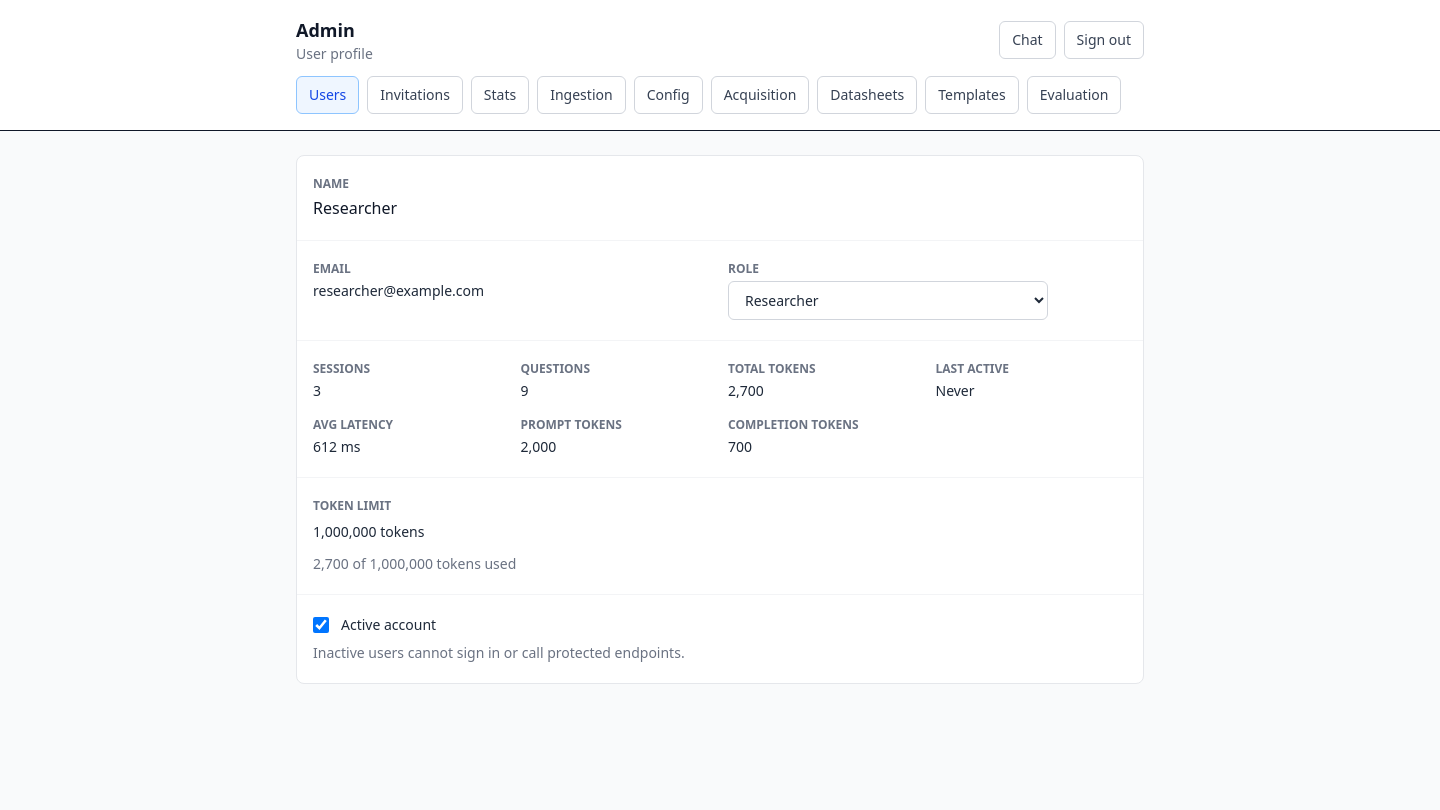
Test: AdminUserClient › manually edits and saves the token limit from the user page
Click the button "1,000,000 tokens".
click(369, 532)  # box [313,518,424,546]
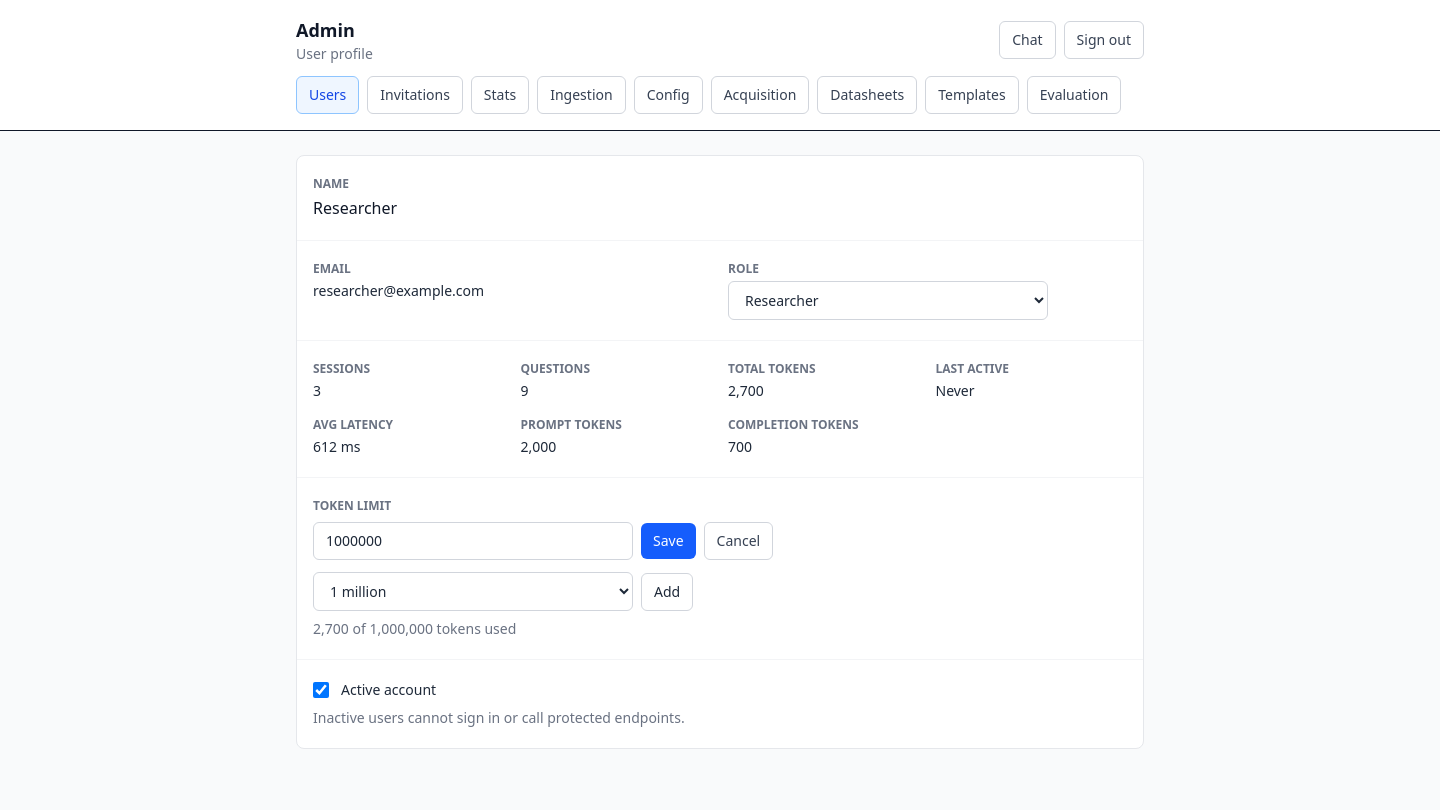
Replace the text in the number field named "Editable token limit" with "5000000" at (473, 541), box [313,522,633,560]
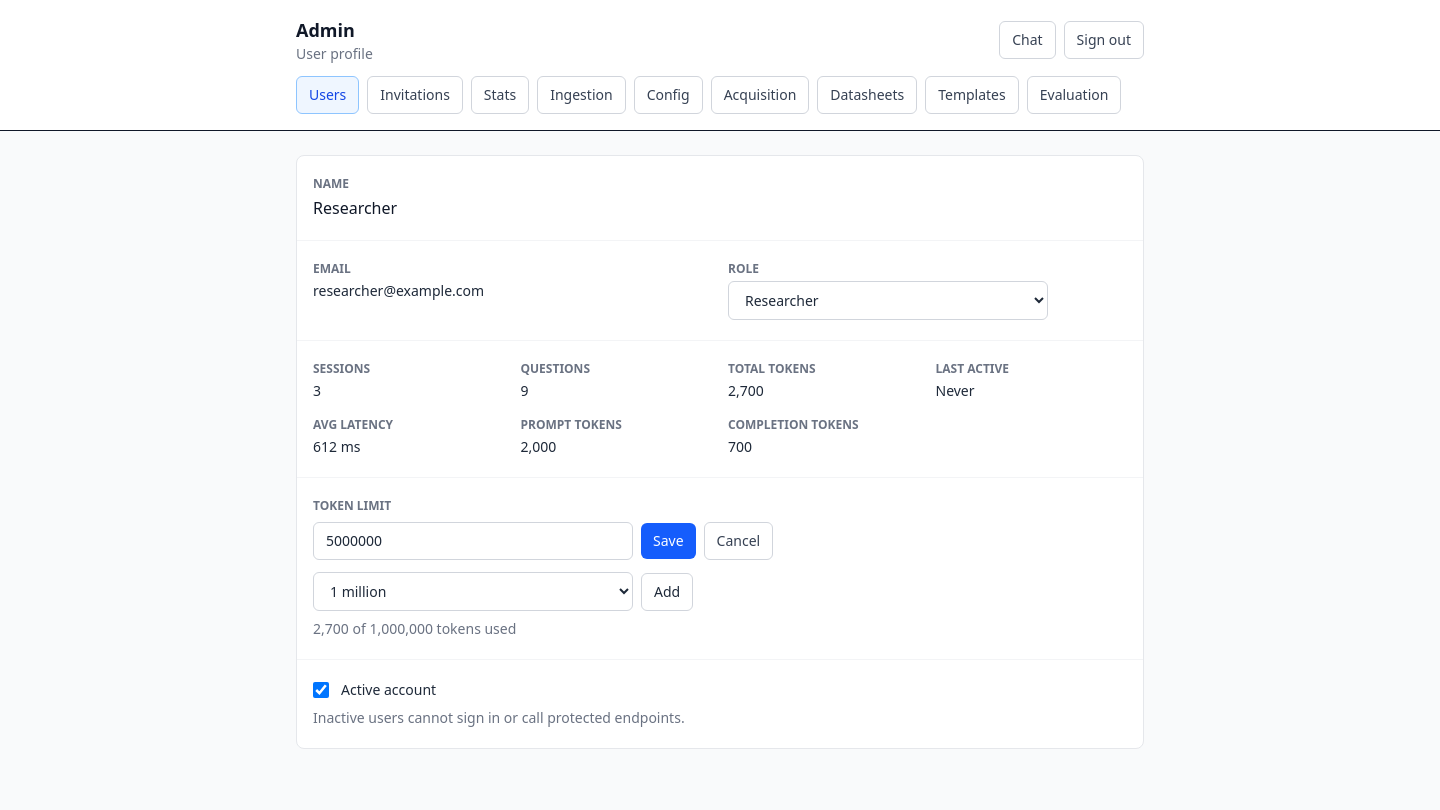
Click the button "Save".
click(668, 541)  # box [641,523,696,559]
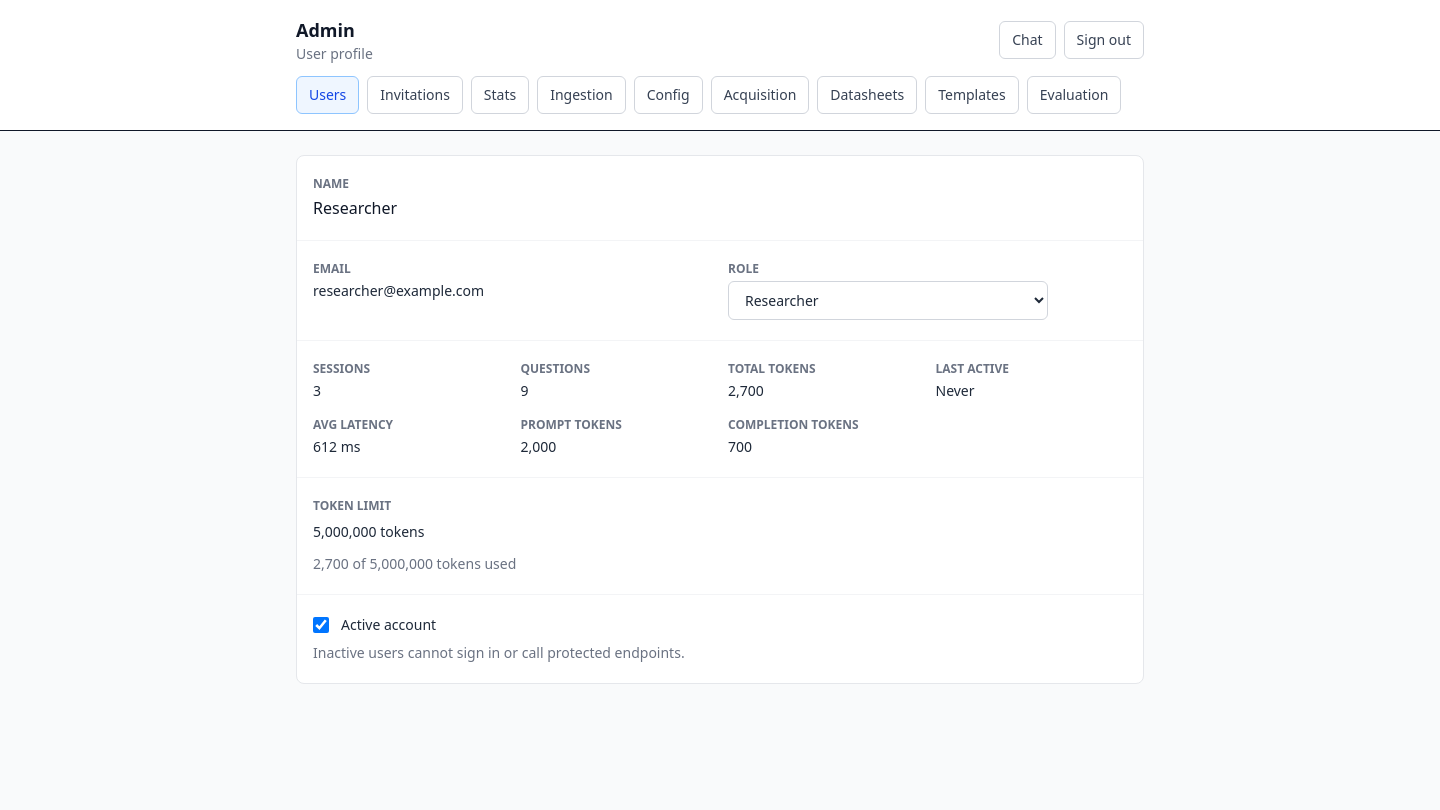
Check: the text "2,700 of 5,000,000 tokens used" is shown, box [313,554,516,573]
